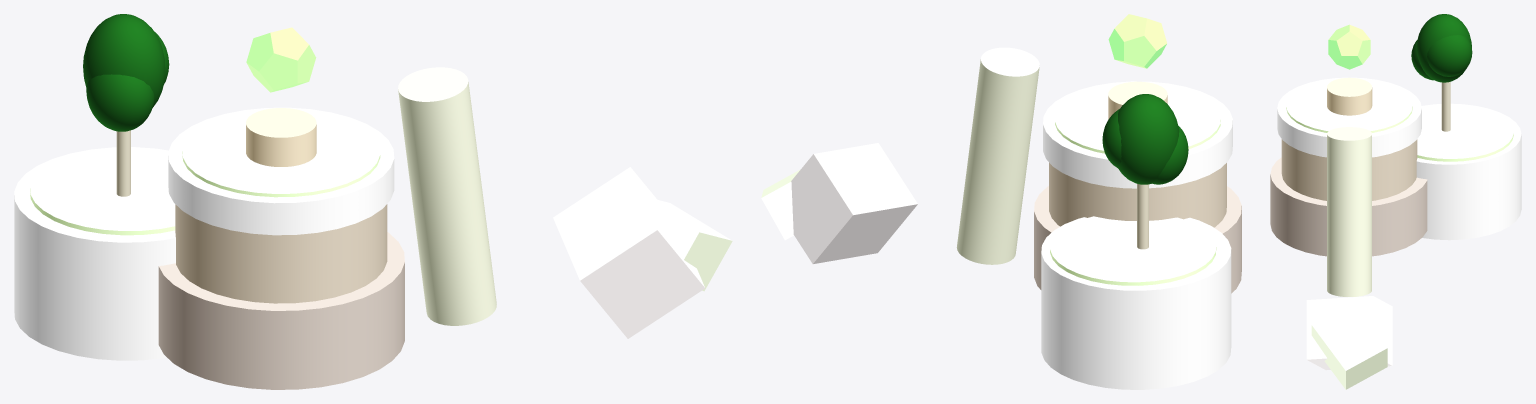
The model's file is yes.glb.
The picture shows the model from 3 angles, left to right: view 1: azimuth 30°, elevation 25°; view 2: azimuth 150°, elevation 25°; view 3: azimuth 270°, elevation 25°; orthographic projection. The views are drawn at different scales.
Visible parts, largest first — view 1: Cylinder (×9), Box (×2), Sphere (×2), Dodecahedron; view 2: Cylinder (×9), Box (×2), Sphere (×3), Dodecahedron; view 3: Cylinder (×9), Box (×2), Sphere (×3), Dodecahedron.
Boxes of the visible parts, x1,y1,x2,y2 form: Cylinder (×9): (14,67,496,389); Box (×2): (553,167,732,338); Sphere (×2): (83,14,165,131); Dodecahedron: (246,27,316,92); Cylinder (×9): (956,47,1241,389); Box (×2): (761,143,917,263); Sphere (×3): (1102,94,1188,184); Dodecahedron: (1108,14,1167,68); Cylinder (×9): (1270,77,1521,296); Box (×2): (1306,296,1392,389); Sphere (×3): (1411,14,1472,82); Dodecahedron: (1328,24,1370,69).
Size of what is drawn, in the model's own units: 20.31 by 11.71 by 11.11.
